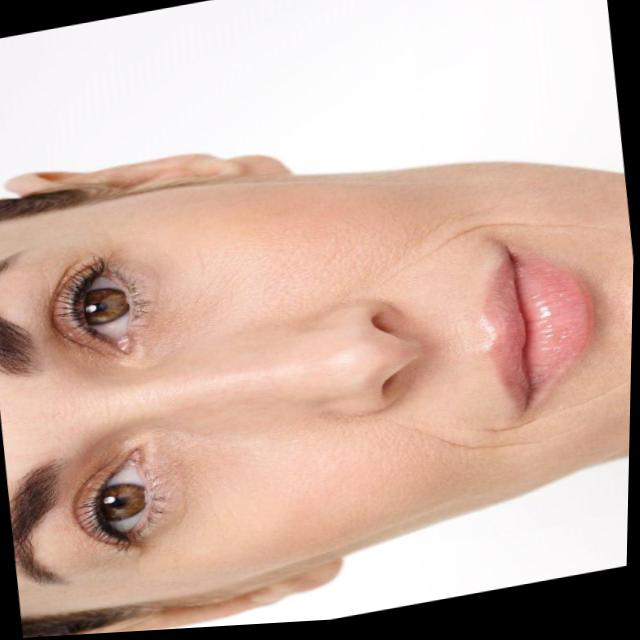Wrinkles: (377, 225, 626, 289), (466, 384, 633, 439), (384, 422, 589, 457)
